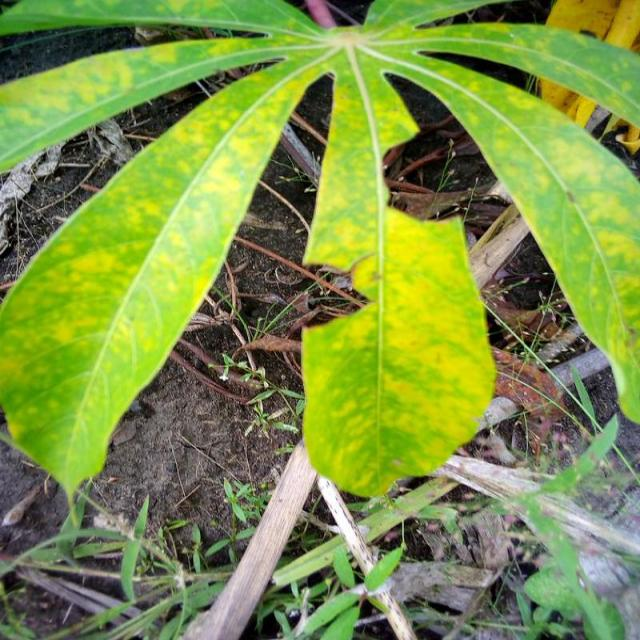cassava leaf: (0, 1, 639, 522), (300, 203, 498, 498)
